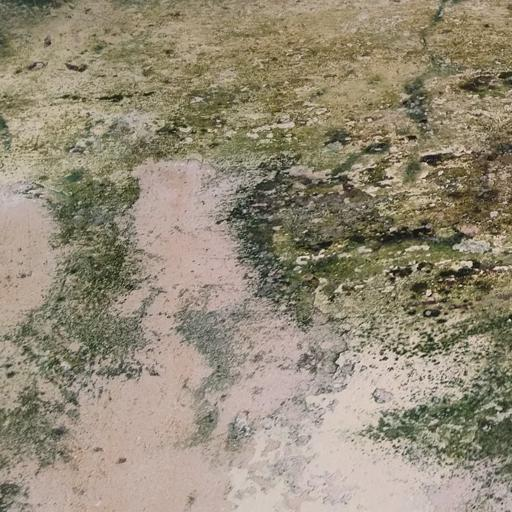algae: (0, 0, 511, 466)
